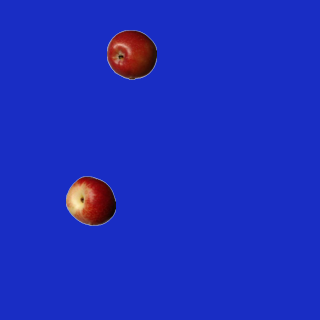Apple Braeburn: (106, 29, 156, 79)
Nectarine: (65, 175, 115, 225)
